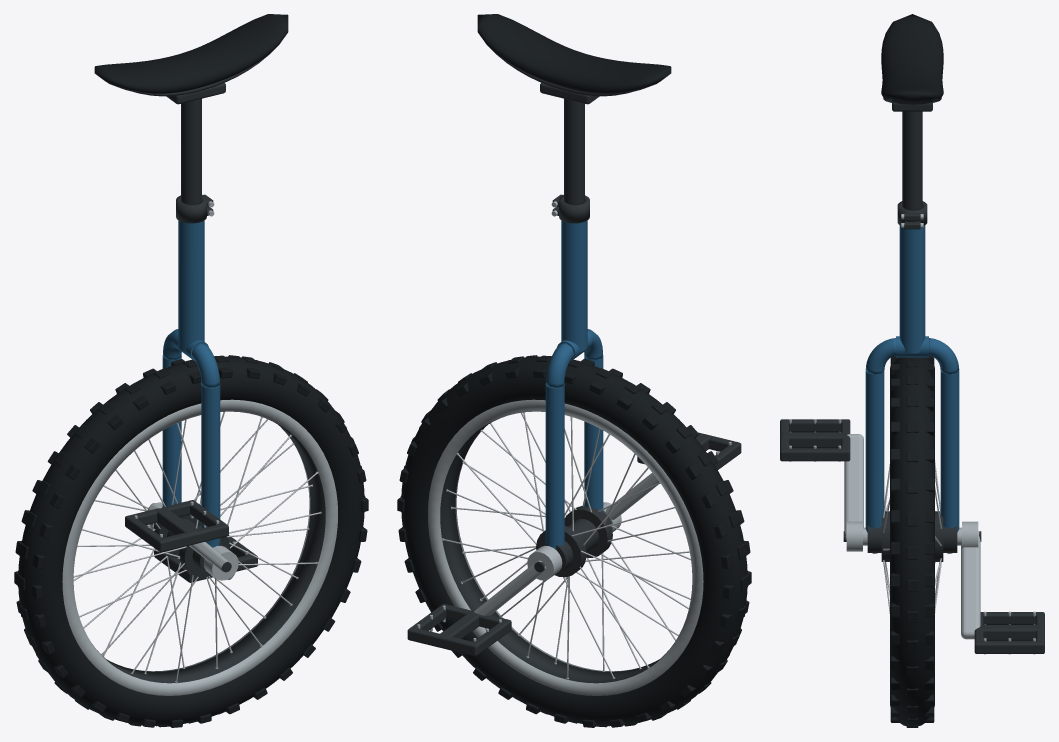
3 views of the same model, side by side, from view 1: azimuth 30°, elevation 25°; view 2: azimuth 150°, elevation 25°; view 3: azimuth 270°, elevation 25° (orthographic). The views are drawn at different scales.
Visible parts, largest first — view 1: Thick tire carcass, Double wall alloy rim, Curved black saddle cushion, Dark inner rim bed, Seatpost frame neck, Fork straight leg -1, Exposed seatpost, Fork straight leg 1, Fork shoulder -1, Pedal end rail (-1, -0.041), Pedal outer rail (-1, -0.046), Seatpost clamp ring (+2 smaller); view 2: Thick tire carcass, Double wall alloy rim, Curved black saddle cushion, Dark inner rim bed, Seatpost frame neck, Fork straight leg 1, Exposed seatpost, Fork straight leg -1, Hub flange -1, Alloy crank arm 1, Hub flange 1, Fork shoulder 1 (+6 smaller); view 3: Thick tire carcass, Curved black saddle cushion, Seatpost frame neck, Fork straight leg 1, Fork straight leg -1, Exposed seatpost, Alloy crank arm 1, Alloy crank arm -1, Pedal outer rail (-1, 0.046), Pedal center spindle bridge -1, Pedal outer rail (1, 0.046), Pedal center spindle bridge 1 (+6 smaller).
Part boxes in pixels (bbox=[...]): Thick tire carcass: bbox=[18, 356, 364, 726]; Double wall alloy rim: bbox=[62, 399, 337, 695]; Curved black saddle cushion: bbox=[94, 14, 288, 93]; Dark inner rim bed: bbox=[92, 418, 325, 683]; Seatpost frame neck: bbox=[178, 220, 204, 351]; Fork straight leg -1: bbox=[201, 383, 220, 547]; Exposed seatpost: bbox=[181, 98, 201, 204]; Fork straight leg 1: bbox=[162, 355, 181, 506]; Fork shoulder -1: bbox=[191, 343, 219, 387]; Pedal end rail (-1, -0.041): bbox=[163, 524, 222, 550]; Pedal outer rail (-1, -0.046): bbox=[125, 515, 166, 552]; Seatpost clamp ring: bbox=[176, 195, 206, 223]; Thick tire carcass: bbox=[401, 356, 747, 726]; Double wall alloy rim: bbox=[428, 399, 703, 695]; Curved black saddle cushion: bbox=[477, 14, 671, 93]; Dark inner rim bed: bbox=[440, 418, 673, 683]; Seatpost frame neck: bbox=[561, 220, 587, 351]; Fork straight leg 1: bbox=[545, 383, 564, 549]; Exposed seatpost: bbox=[564, 98, 584, 204]; Fork straight leg -1: bbox=[584, 355, 603, 512]; Hub flange -1: bbox=[564, 506, 612, 557]; Alloy crank arm 1: bbox=[474, 560, 545, 615]; Hub flange 1: bbox=[536, 526, 586, 577]; Fork shoulder 1: bbox=[546, 343, 574, 387]; Thick tire carcass: bbox=[890, 357, 934, 725]; Curved black saddle cushion: bbox=[881, 14, 943, 104]; Seatpost frame neck: bbox=[899, 225, 925, 353]; Fork straight leg 1: bbox=[940, 370, 959, 532]; Fork straight leg -1: bbox=[865, 370, 884, 532]; Exposed seatpost: bbox=[902, 111, 922, 209]; Alloy crank arm 1: bbox=[961, 531, 980, 639]; Alloy crank arm -1: bbox=[844, 434, 863, 540]; Pedal outer rail (-1, 0.046): bbox=[780, 448, 850, 461]; Pedal center spindle bridge -1: bbox=[782, 432, 847, 448]; Pedal outer rail (1, 0.046): bbox=[974, 641, 1044, 653]; Pedal center spindle bridge 1: bbox=[977, 625, 1042, 640].
Bounding box in the file's own units: 51.2 × 97.5 × 35.4.
